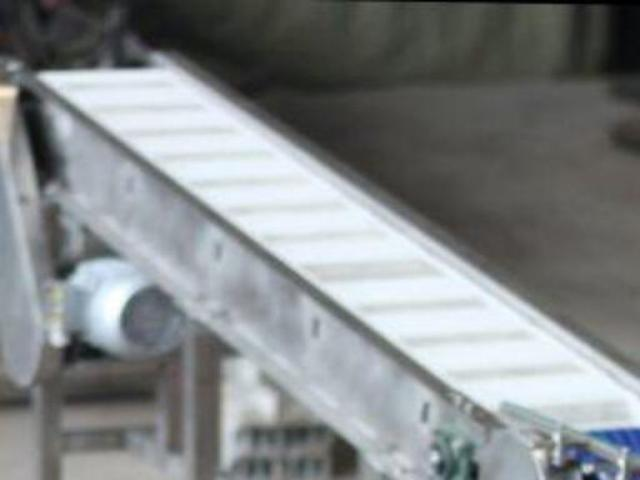conveyor: (12, 51, 639, 480)
